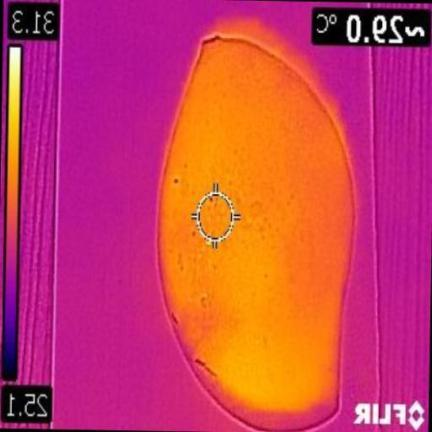mango: (159, 35, 354, 428)
